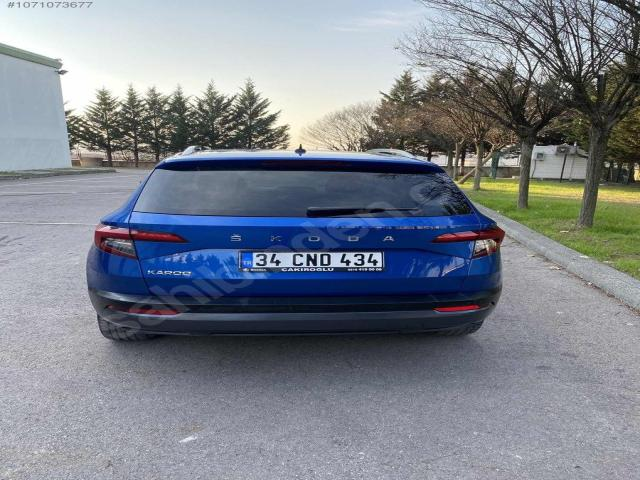plaka: (239, 252, 384, 271)
